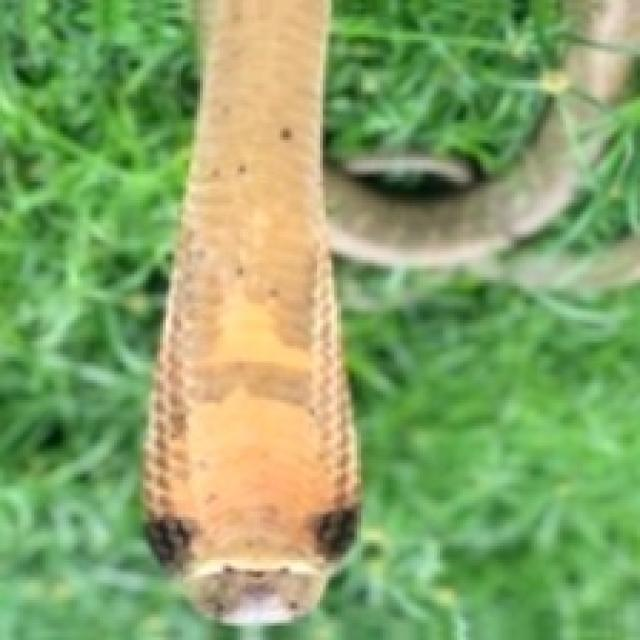king cobra: (146, 0, 357, 620), (383, 111, 571, 260)
